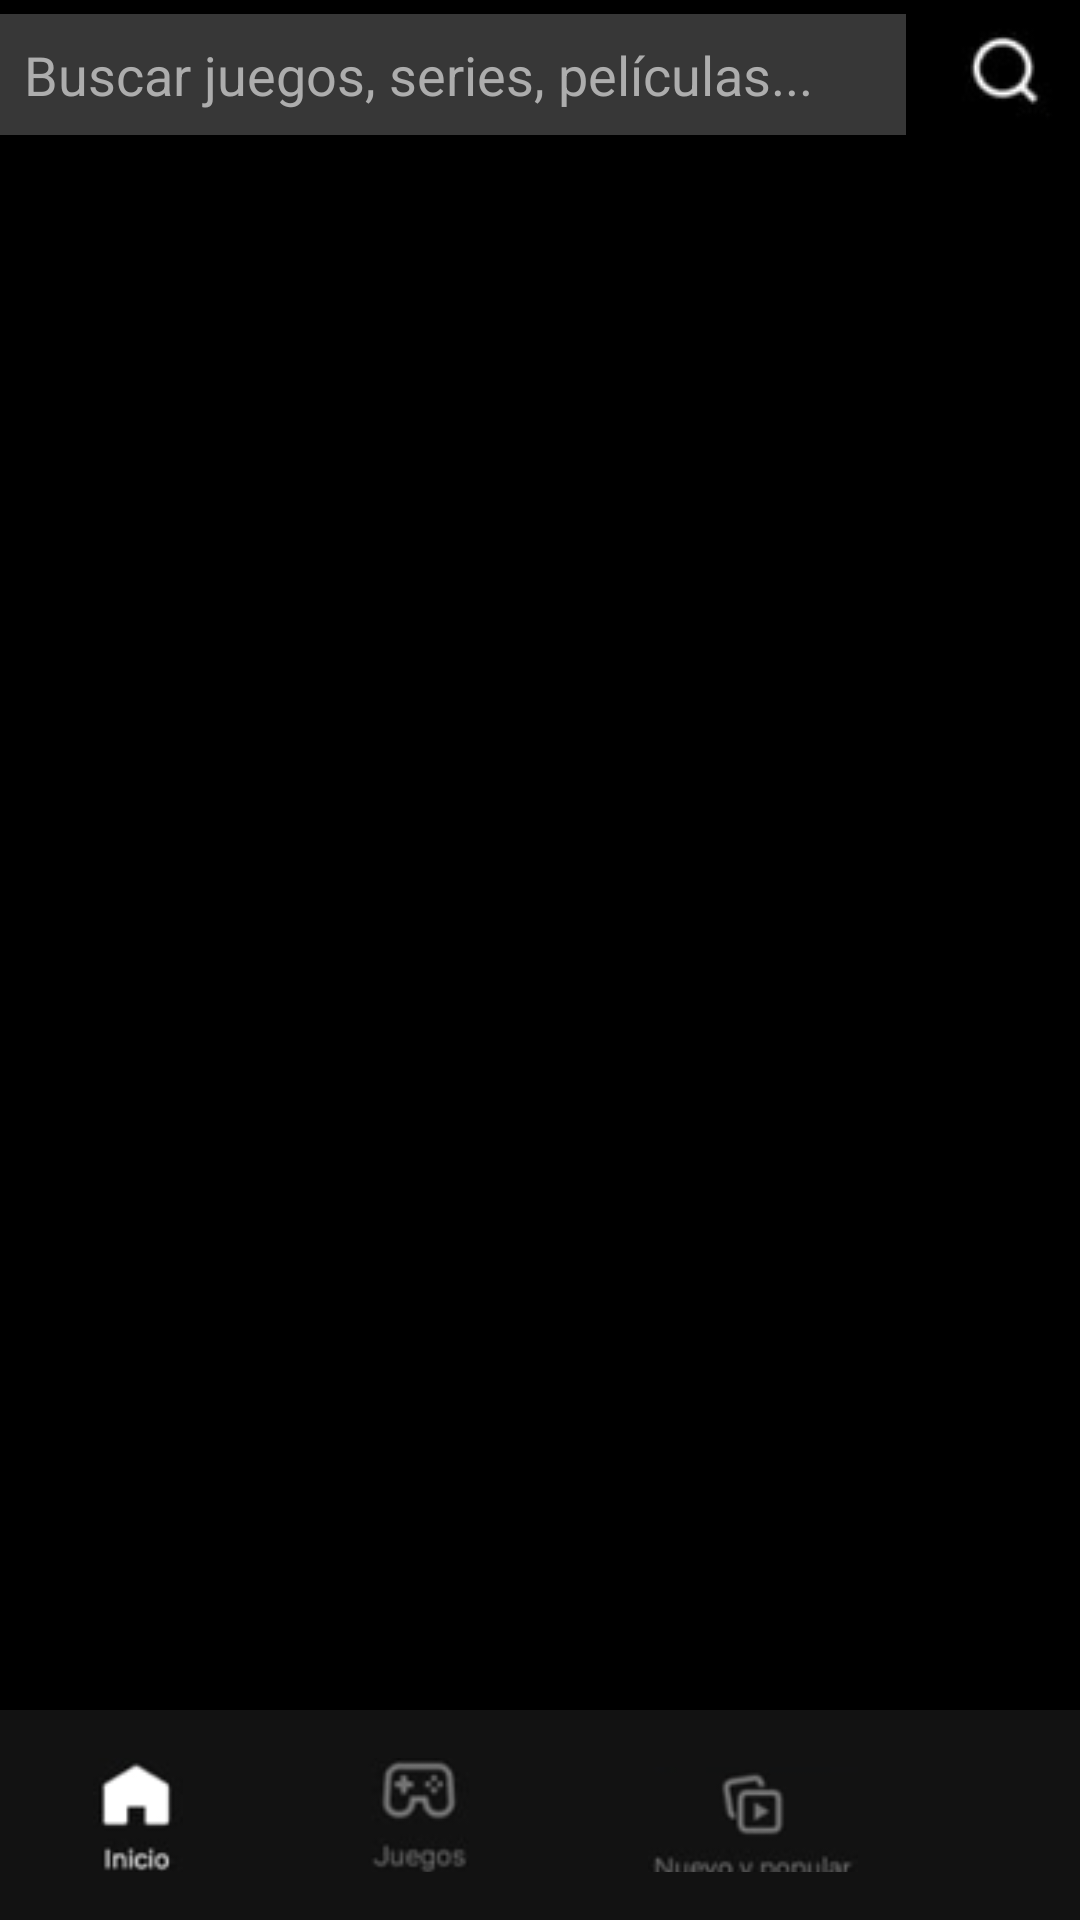

Locate icon controls on the screen. Image size 1080 × 1920, boxes as (x1, y1, x2, y2).
Buscar película: (971, 37, 1038, 105)
